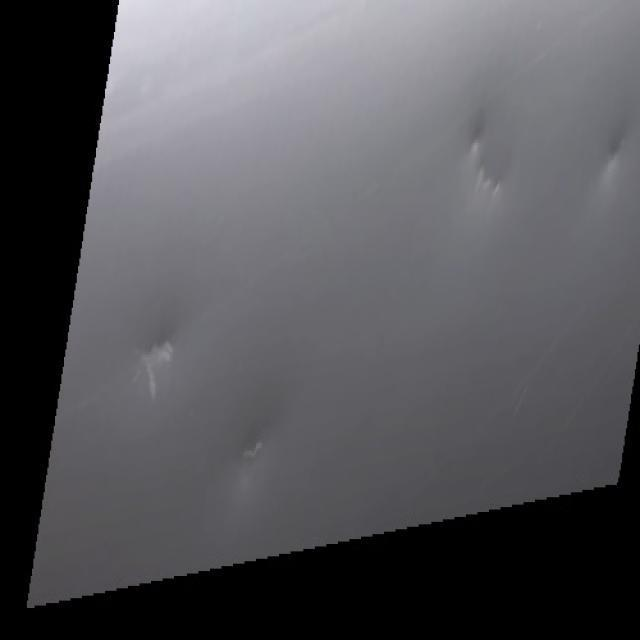dent: (133, 327, 229, 394), (461, 121, 525, 212), (599, 123, 639, 214), (240, 419, 286, 476)
